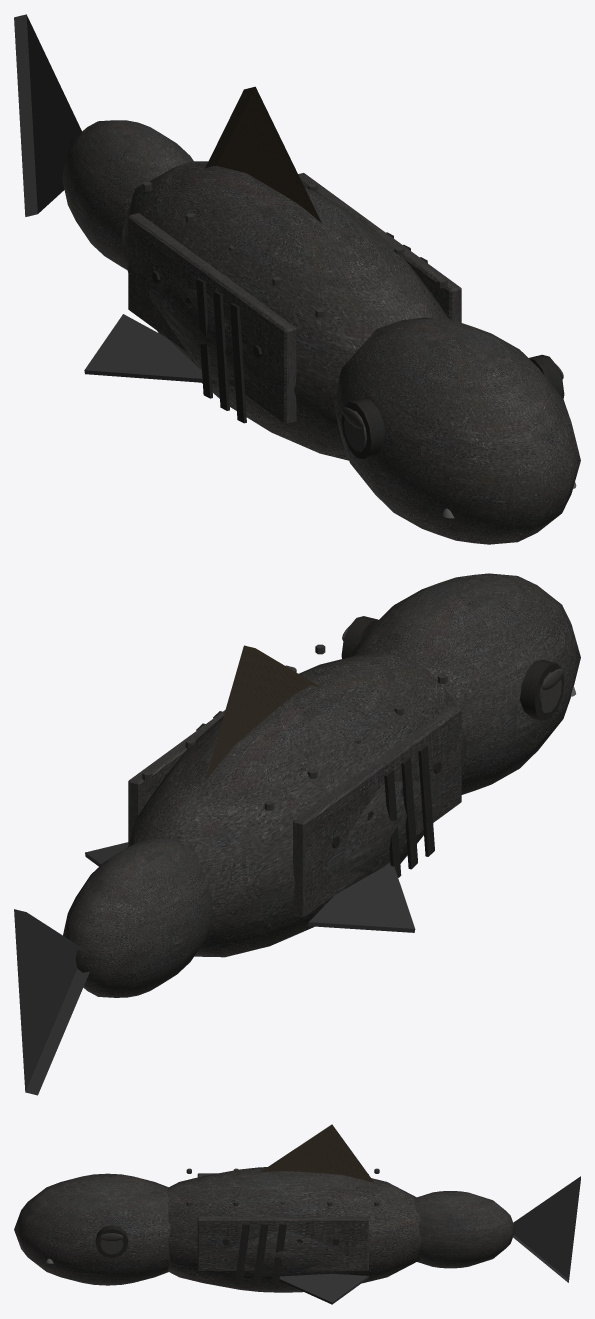
The model's file is wild-zirhli-kopekbaligi.glb.
3 views of the same model, one above another, from view 1: azimuth 30°, elevation 25°; view 2: azimuth 150°, elevation 25°; view 3: azimuth 270°, elevation 25° (orthographic). The views are drawn at different scales.
Visible parts, largest first — view 1: ZirhliKopekbaligi__Body_Mesh, ZirhliKopekbaligi__Head_Mesh, ZirhliKopekbaligi__Tail_Mesh, ZirhliKopekbaligi__TailTip_Mesh, ZirhliKopekbaligi__Fin_L_Mesh; view 2: ZirhliKopekbaligi__Body_Mesh, ZirhliKopekbaligi__Head_Mesh, ZirhliKopekbaligi__Tail_Mesh, ZirhliKopekbaligi__TailTip_Mesh, ZirhliKopekbaligi__Fin_L_Mesh; view 3: ZirhliKopekbaligi__Body_Mesh, ZirhliKopekbaligi__Head_Mesh, ZirhliKopekbaligi__Tail_Mesh, ZirhliKopekbaligi__TailTip_Mesh, ZirhliKopekbaligi__Fin_R_Mesh.
Part boxes in pixels (bbox=[...]): ZirhliKopekbaligi__Body_Mesh: bbox=[122, 86, 461, 460]; ZirhliKopekbaligi__Head_Mesh: bbox=[334, 317, 580, 544]; ZirhliKopekbaligi__Tail_Mesh: bbox=[62, 120, 193, 269]; ZirhliKopekbaligi__TailTip_Mesh: bbox=[14, 14, 81, 216]; ZirhliKopekbaligi__Fin_L_Mesh: bbox=[84, 314, 216, 383]; ZirhliKopekbaligi__Body_Mesh: bbox=[127, 644, 467, 957]; ZirhliKopekbaligi__Head_Mesh: bbox=[341, 573, 580, 794]; ZirhliKopekbaligi__Tail_Mesh: bbox=[63, 838, 212, 997]; ZirhliKopekbaligi__TailTip_Mesh: bbox=[14, 909, 89, 1095]; ZirhliKopekbaligi__Fin_L_Mesh: bbox=[308, 862, 415, 932]; ZirhliKopekbaligi__Body_Mesh: bbox=[166, 1124, 421, 1292]; ZirhliKopekbaligi__Head_Mesh: bbox=[14, 1173, 170, 1285]; ZirhliKopekbaligi__Tail_Mesh: bbox=[414, 1191, 515, 1268]; ZirhliKopekbaligi__TailTip_Mesh: bbox=[512, 1176, 580, 1282]; ZirhliKopekbaligi__Fin_R_Mesh: bbox=[272, 1273, 368, 1304].
Size of the model in its own units: 2.08 by 1.79 by 5.7.
Materials: 6 (6 with a texture image).
